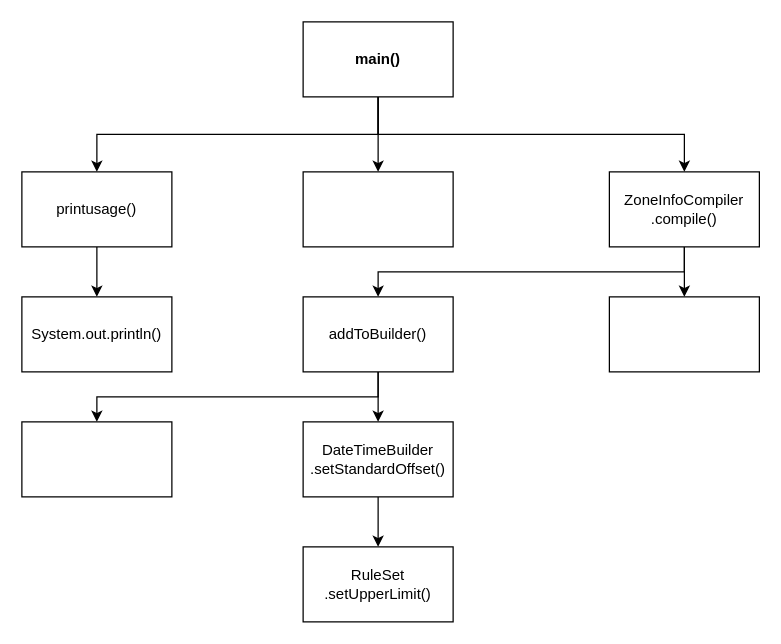
The diagram is 781 pixels wide and 644 high, and some of its shapes have lost their labels. Here are the shapes that lost their labels. From the top down, the centre of each, then its label:
the point at 377,209: ZoneInfoLogger.set()
the point at 683,334: DateTimeZone .toDateTimeZone()
the point at 96,459: DateTimeZone .setFixedSaving()
